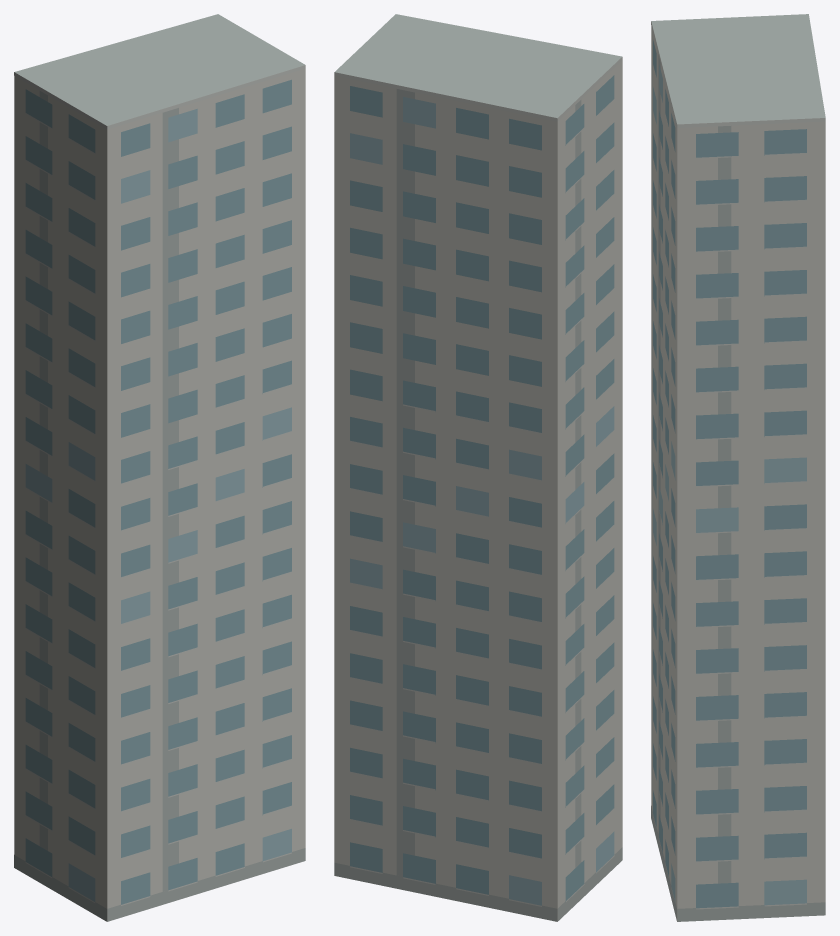
File: survey-upis-32633652.glb
3 renders of one model, left to right at view 1: azimuth 30°, elevation 25°; view 2: azimuth 150°, elevation 25°; view 3: azimuth 270°, elevation 25°, orthographic.
Visible parts, largest first — view 1: survey-upis-32633652.tmp; view 2: survey-upis-32633652.tmp; view 3: survey-upis-32633652.tmp.
Boxes of the visible parts, x1,y1,x2,y2 form: survey-upis-32633652.tmp: [14, 14, 305, 921]; survey-upis-32633652.tmp: [334, 14, 622, 921]; survey-upis-32633652.tmp: [651, 14, 825, 921].
Size of the model in its own units: 15.41 by 51.85 by 10.3.
